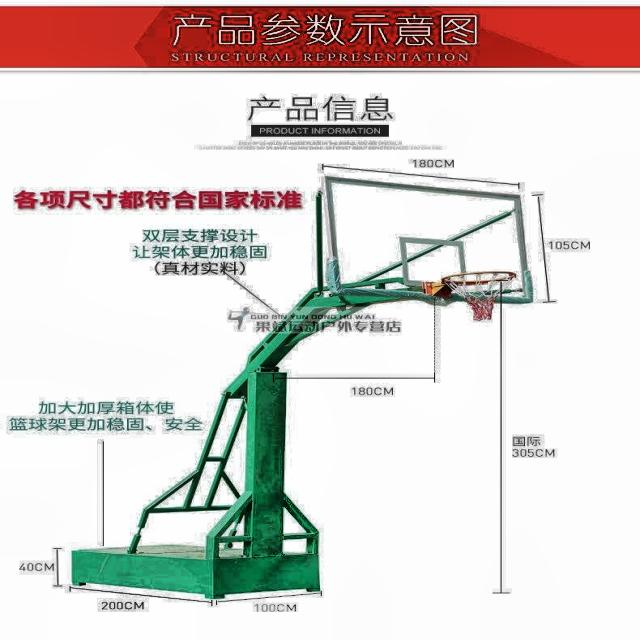rim: (445, 272, 514, 318)
